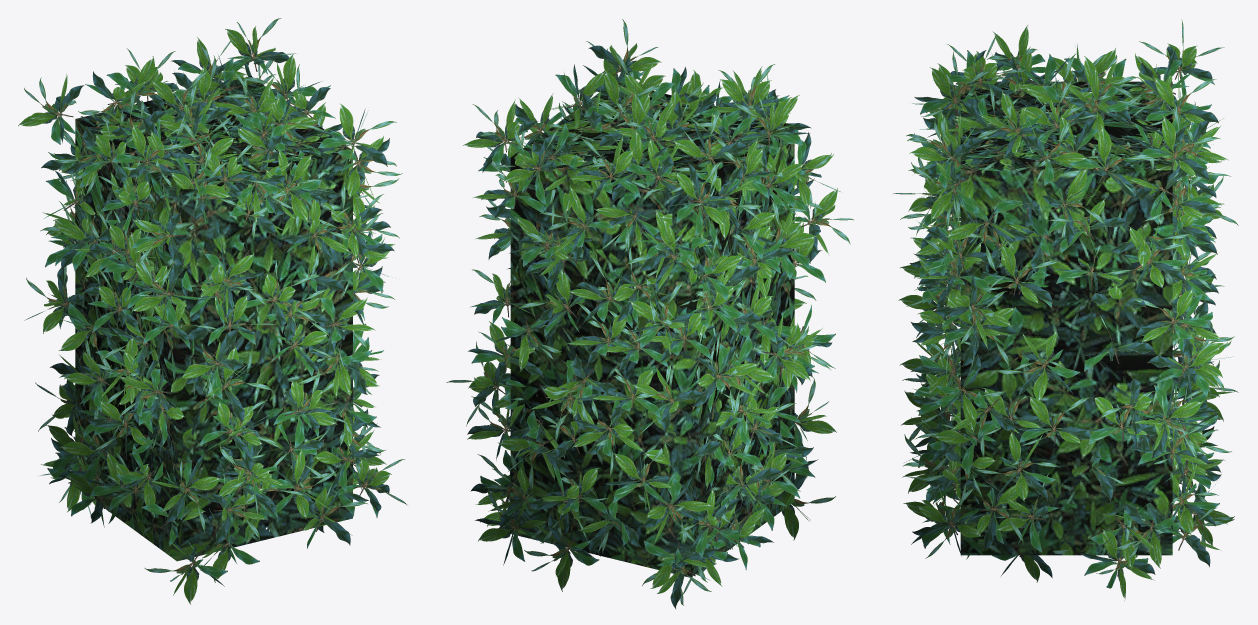
Rendered from HedgeLong 1.fbx.
The picture shows the model from 3 angles, left to right: view 1: azimuth 30°, elevation 25°; view 2: azimuth 150°, elevation 25°; view 3: azimuth 270°, elevation 25°; orthographic projection. The views are drawn at different scales.
Parts seen in each view (by area): view 1: node_id4; view 2: node_id4; view 3: node_id4.
Boxes of the visible parts, left/top/right/bottom form: node_id4: left=18, top=18, right=407, bottom=604; node_id4: left=446, top=19, right=853, bottom=608; node_id4: left=892, top=19, right=1238, bottom=600.
Size of the model in its own units: 0.3291 by 0.512 by 0.3345.
Materials: 1 (1 with a texture image).
